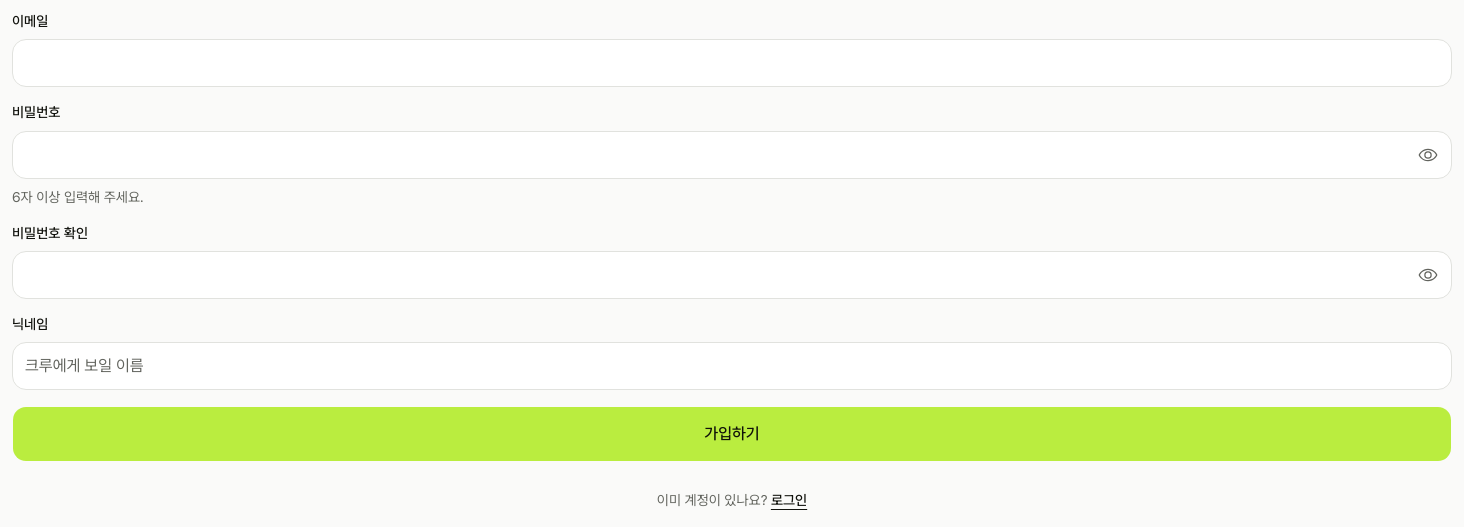
it: AuthForm › 가입 화면에서 비밀번호와 비밀번호 확인 칸을 따로 보이게 한다
The image size is (1464, 527).
Type "runner@example.com" into the field labelled "이메일" at (732, 63), box [12,39,1452,87]
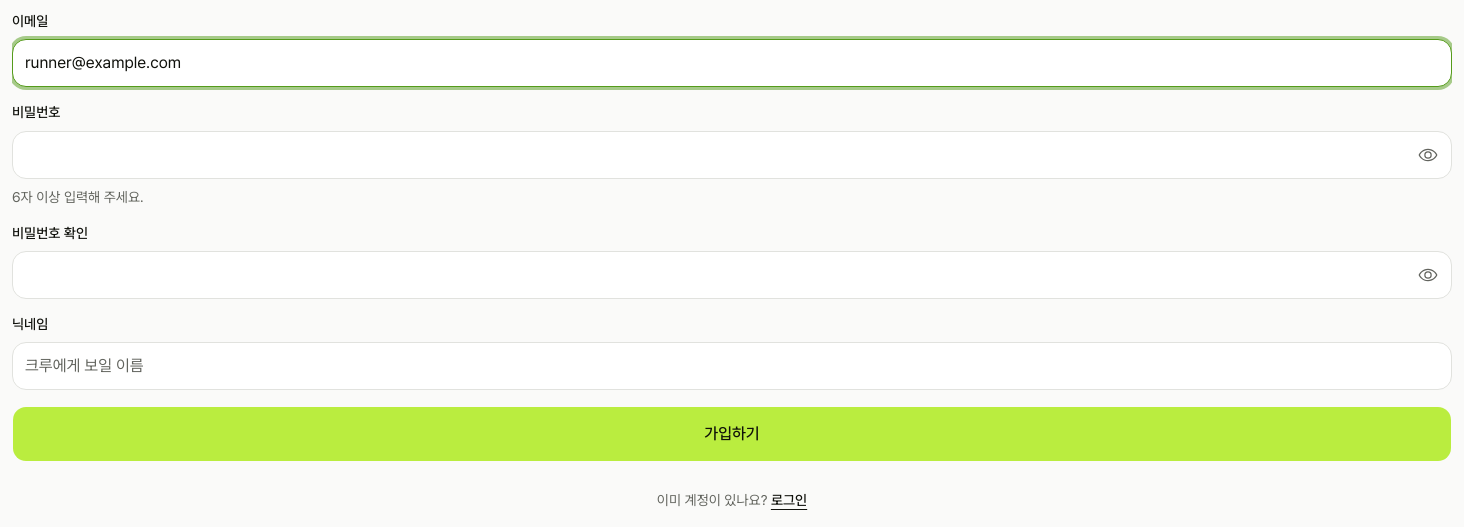
Type "123456" into the password field labelled "비밀번호" at (732, 154), box [12,130,1452,178]
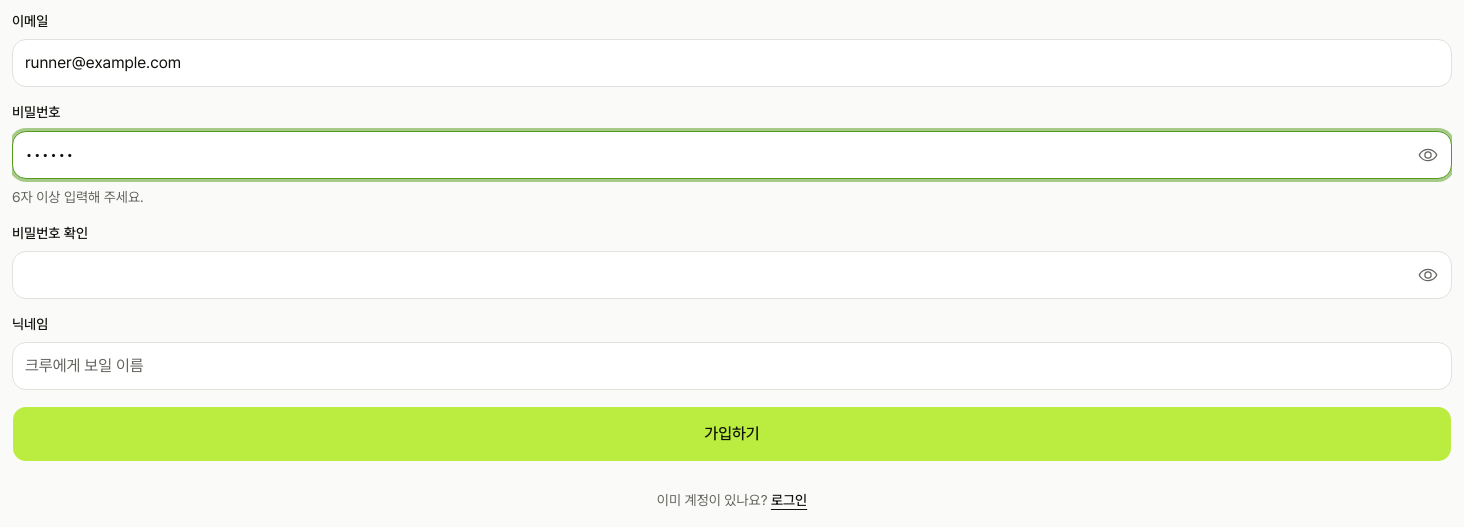
Type "123456" into the password field labelled "비밀번호 확인" at (732, 275), box [12,251,1452,299]
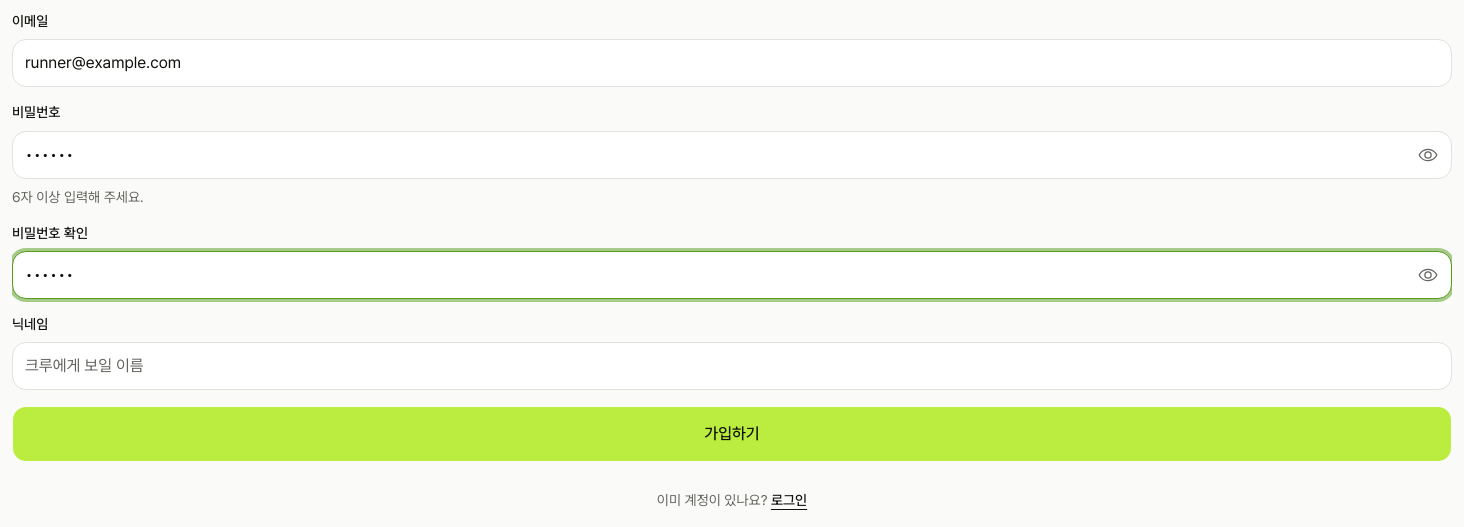
Type "땀쟁이" into the field labelled "닉네임" at (732, 366), box [12,342,1452,390]
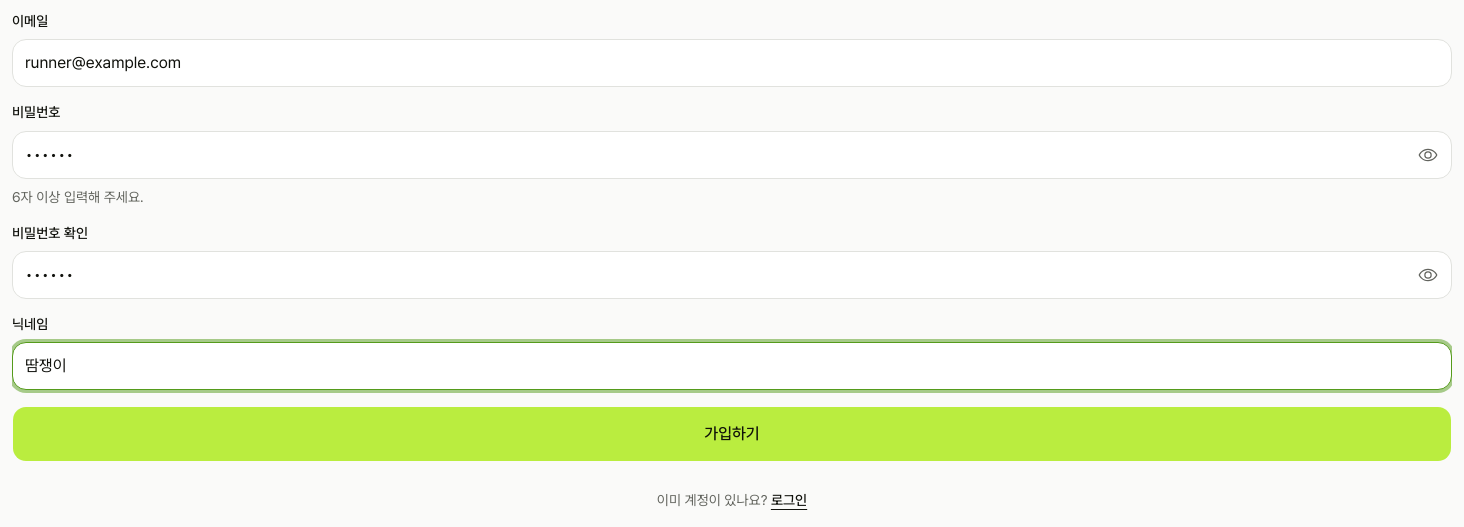
Click the 2nd button named "비밀번호 보기" at (1428, 275), box [1404,251,1452,299]
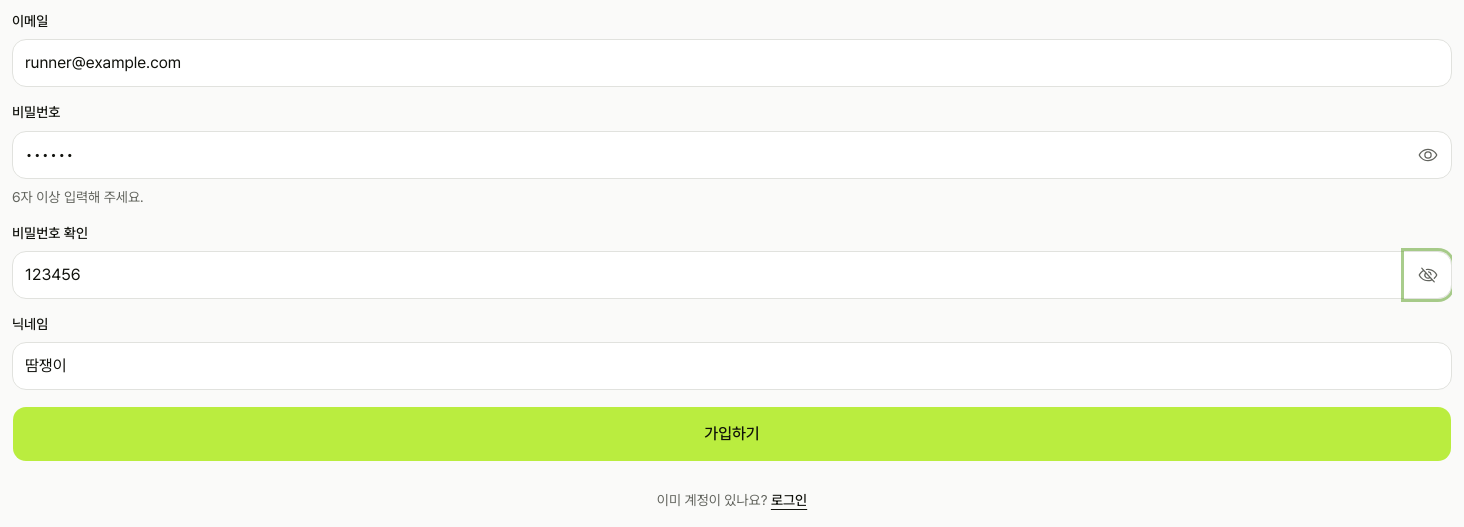
Expected: the field labelled "비밀번호 확인" shows its text, [12,251,1452,299]
Click the button named "비밀번호 보기" at (1428, 154), box [1404,130,1452,178]
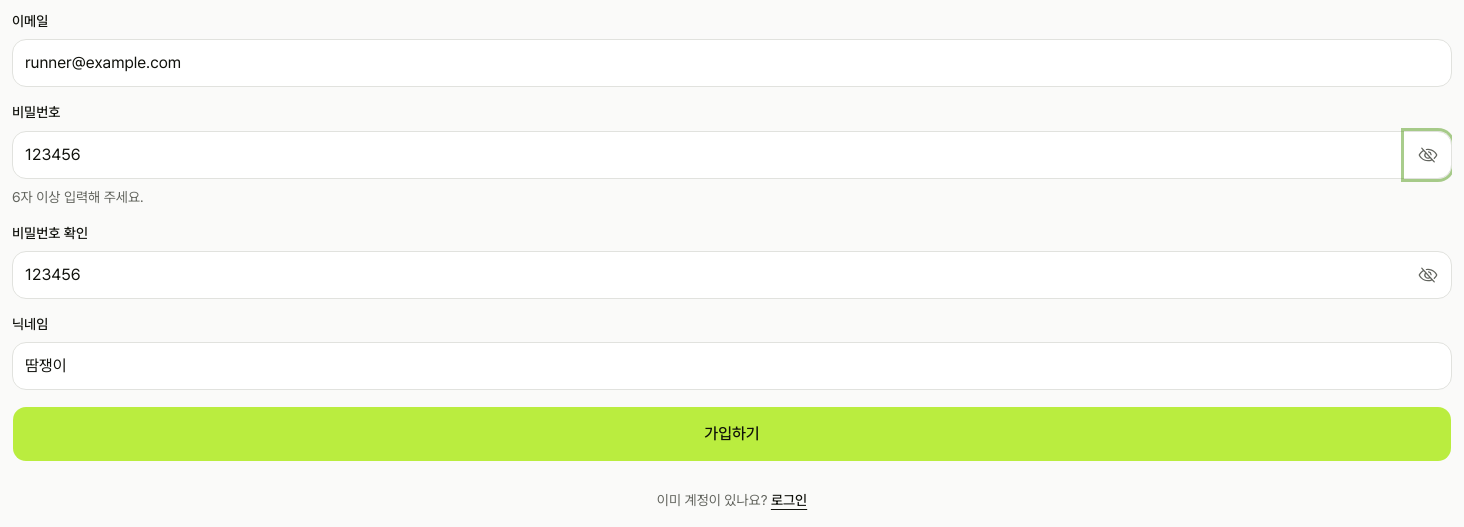
Expected: the field labelled "비밀번호" shows its text, [12,130,1452,178]
